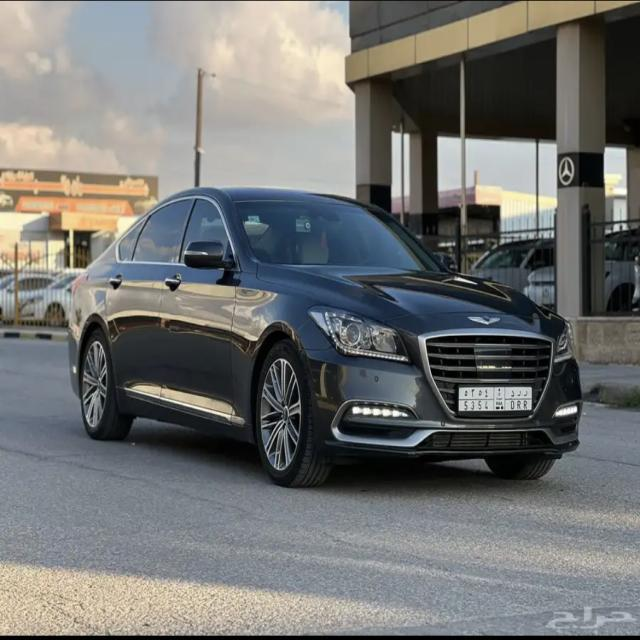license_plate: (456, 386, 533, 412)
